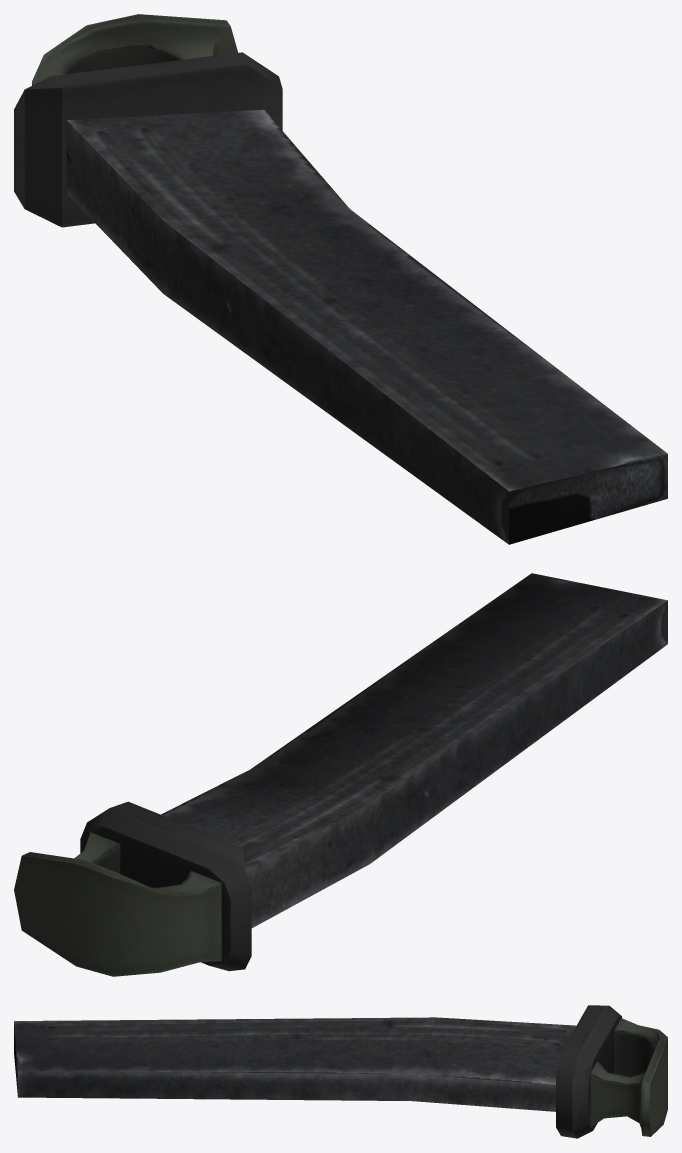
The model's file is t6_attach_fastmag_msmc_world_LOD0.obj.
The picture shows the model from 3 angles, top to bottom: view 1: azimuth 30°, elevation 25°; view 2: azimuth 150°, elevation 25°; view 3: azimuth 270°, elevation 25°; orthographic projection. The views are drawn at different scales.
Parts seen in each view (by area): view 1: mtl_t6_wpn_smg_msmc_camo1, mtl_t6_attach_fastmag; view 2: mtl_t6_wpn_smg_msmc_camo1, mtl_t6_attach_fastmag; view 3: mtl_t6_wpn_smg_msmc_camo1, mtl_t6_attach_fastmag.
Part boxes in pixels (<box>): mtl_t6_wpn_smg_msmc_camo1: <box>66,109,667,544</box>; mtl_t6_attach_fastmag: <box>14,14,282,227</box>; mtl_t6_wpn_smg_msmc_camo1: <box>161,573,667,927</box>; mtl_t6_attach_fastmag: <box>14,801,251,976</box>; mtl_t6_wpn_smg_msmc_camo1: <box>14,1017,575,1111</box>; mtl_t6_attach_fastmag: <box>556,1005,667,1138</box>.
Bounding box in the file's own units: 5.91 × 3.01 × 21.41.
